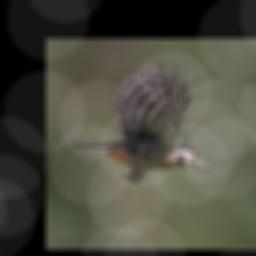Woodpecker: (72, 63, 216, 181)
